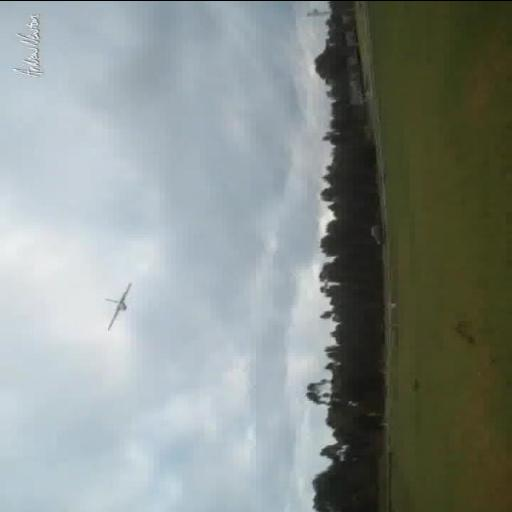uav: (98, 269, 147, 345)
